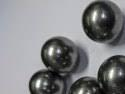ironball: (81, 0, 124, 45), (35, 29, 80, 72), (25, 65, 67, 93), (101, 54, 124, 93), (68, 78, 109, 93)
